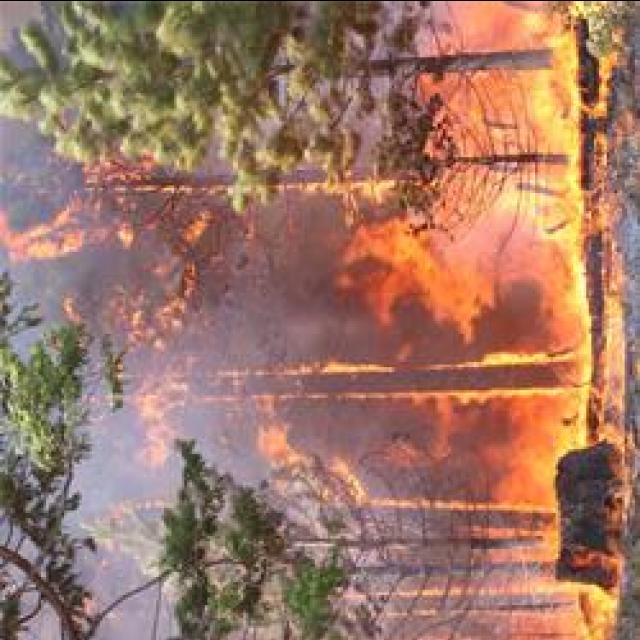fire: (543, 22, 587, 328), (336, 220, 480, 294), (554, 577, 618, 640)
